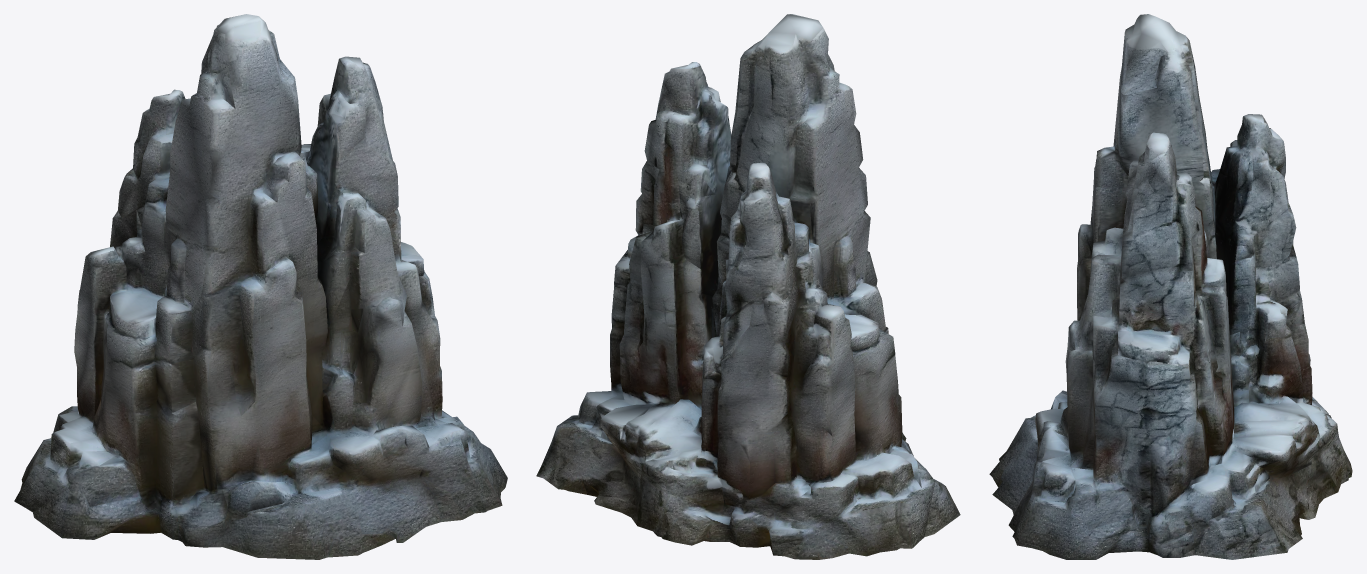
Rendered from crag.glb.
3 renders of one model, left to right at view 1: azimuth 30°, elevation 25°; view 2: azimuth 150°, elevation 25°; view 3: azimuth 270°, elevation 25°, orthographic. The views are drawn at different scales.
Visible parts, largest first — view 1: model; view 2: model; view 3: model.
Part boxes in pixels (bbox=[...]): model: bbox=[14, 14, 507, 559]; model: bbox=[536, 14, 960, 559]; model: bbox=[989, 14, 1352, 559].
Bounding box in the file's own units: 0.863 × 1 × 0.7456.
Materials: 1 (1 with a texture image).
